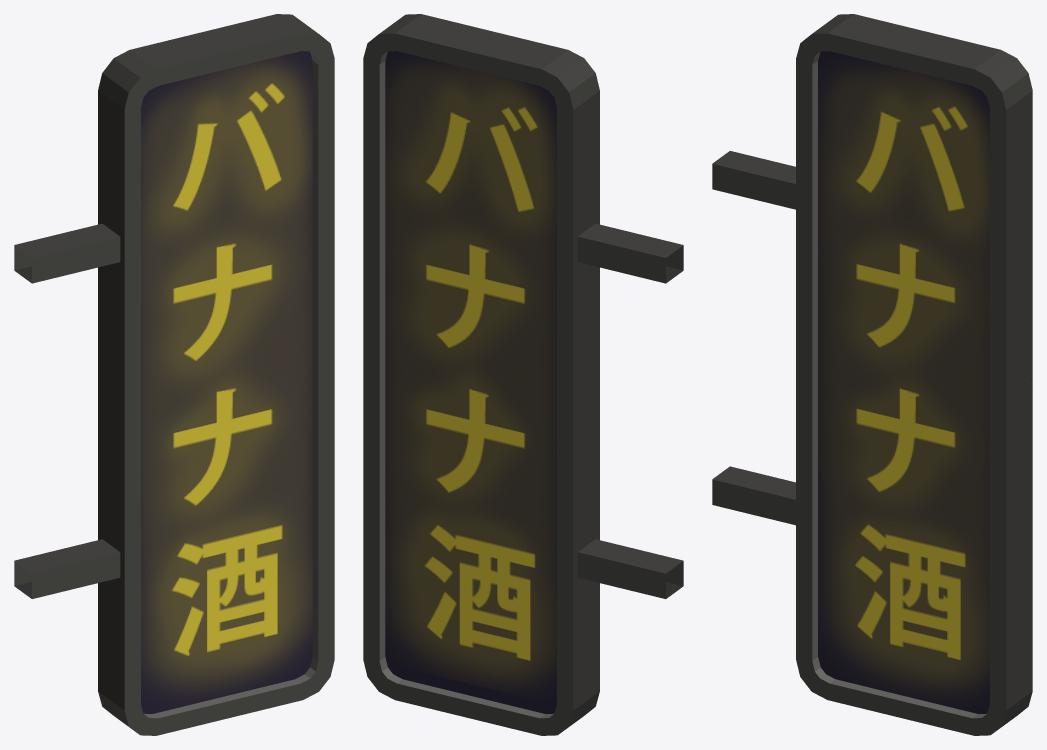
File: prop.sign1.fbx
3 renders of one model, left to right at view 1: azimuth 30°, elevation 25°; view 2: azimuth 150°, elevation 25°; view 3: azimuth 330°, elevation 25°, orthographic.
Parts seen in each view (by area): view 1: sign; view 2: sign; view 3: sign.
Boxes of the visible parts, bbox=[...] form: sign: bbox=[14, 14, 334, 735]; sign: bbox=[363, 14, 683, 735]; sign: bbox=[712, 14, 1032, 735].
Size of the model in its own units: 284 by 606 by 43.83.
